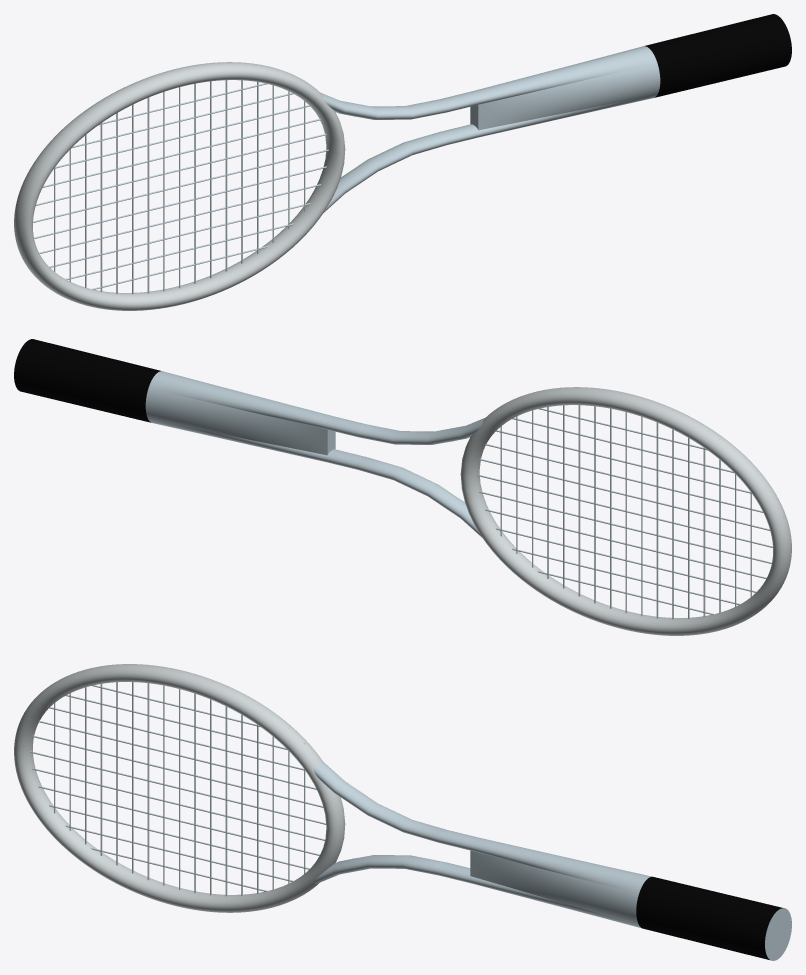
File: c10tut2.glb
3 renders of one model, top to bottom at view 1: azimuth 30°, elevation 25°; view 2: azimuth 150°, elevation 25°; view 3: azimuth 330°, elevation 25°, orthographic.
Visible parts, largest first — view 1: c10tut2.prt; view 2: c10tut2.prt; view 3: c10tut2.prt.
Boxes of the visible parts, x1,y1,x2,y2 form: c10tut2.prt: [14, 14, 791, 310]; c10tut2.prt: [14, 339, 791, 635]; c10tut2.prt: [14, 664, 791, 960].
Bounding box in the file's own units: 0.732 × 0.214 × 0.045.
